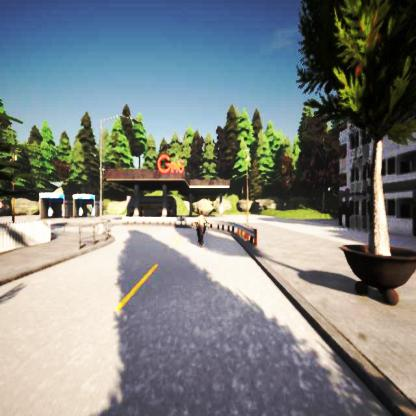motobike: (195, 211, 207, 246)
